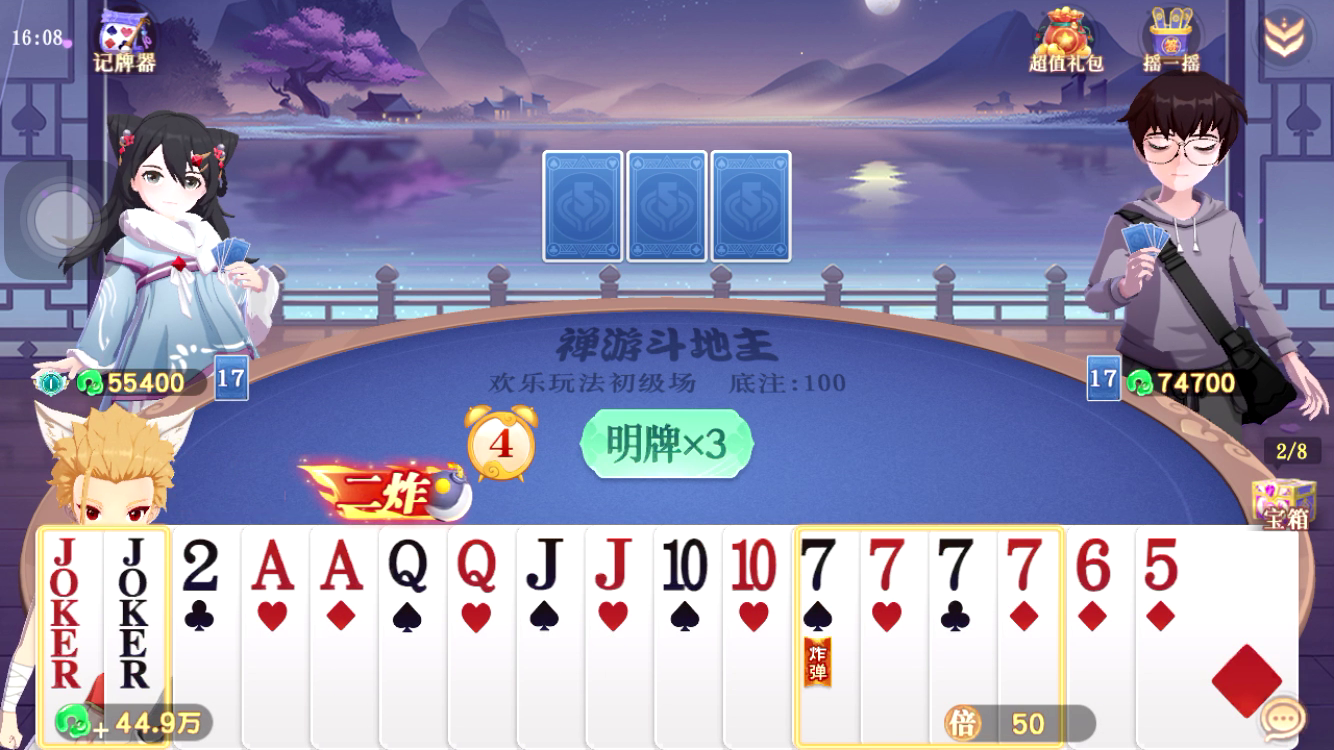A: (246, 532, 303, 596), (314, 535, 370, 598)
J: (519, 531, 568, 600), (588, 531, 638, 595)
JOKER: (38, 533, 93, 638)
Q: (382, 535, 438, 600), (450, 534, 504, 598)
five: (1137, 533, 1189, 597)
joker: (109, 535, 159, 636)
seven: (796, 530, 846, 601), (1000, 532, 1053, 596), (931, 533, 983, 598), (862, 533, 912, 596)
six: (1069, 532, 1122, 597)
ten: (725, 531, 782, 596), (657, 531, 713, 597)
two: (175, 532, 230, 598)
